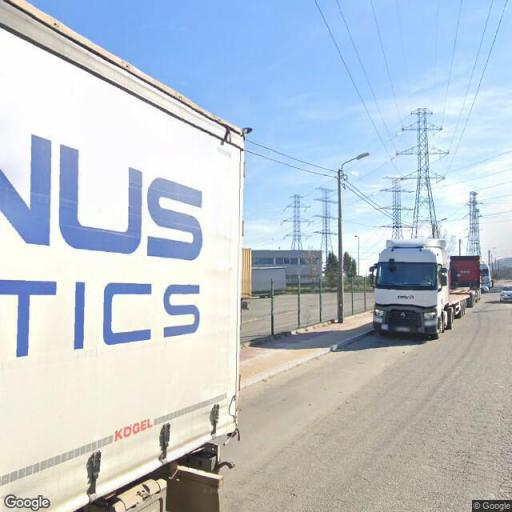ss_3: (397, 104, 453, 242), (380, 171, 417, 240), (312, 183, 342, 257), (284, 192, 312, 245)
